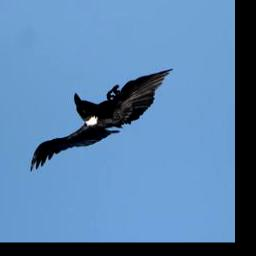Crow: (29, 69, 175, 175)
